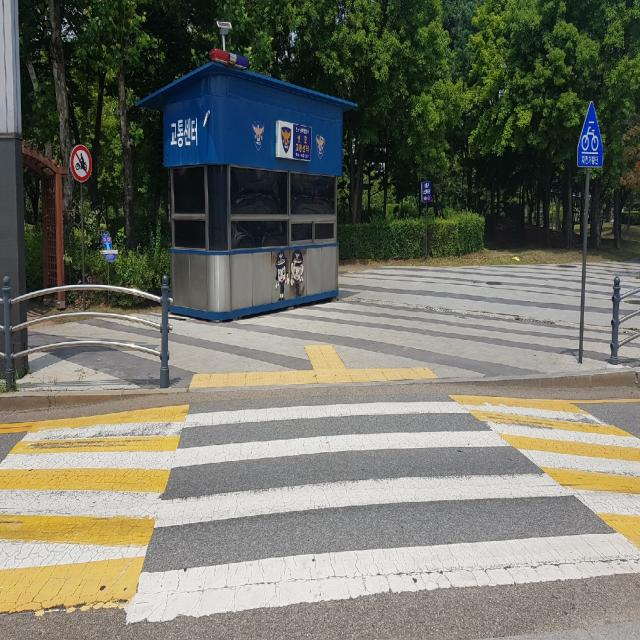횡단보도: (121, 398, 640, 632)
